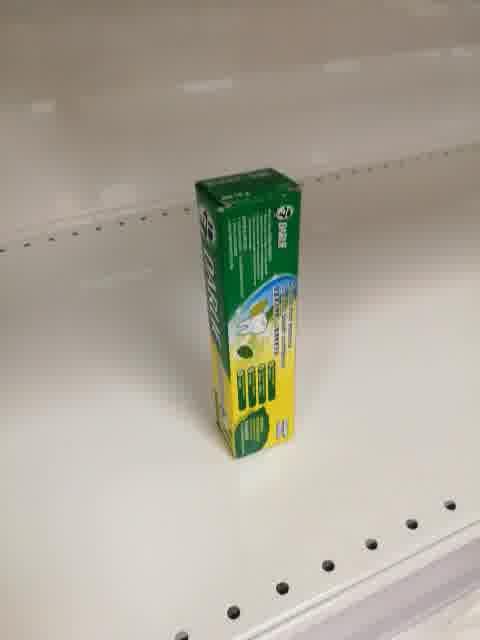toothpaste: (196, 164, 301, 460)
